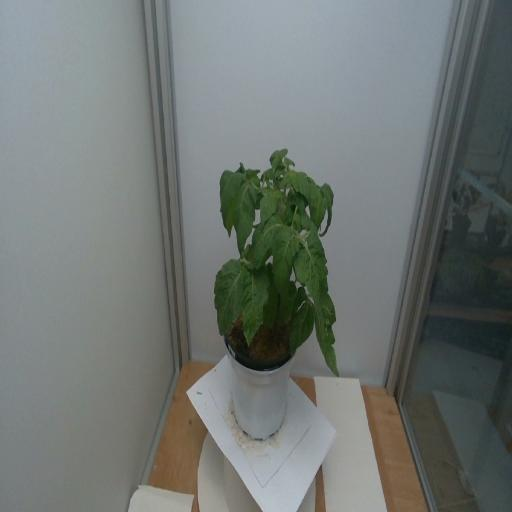Tomato-Leaves-Cupboard-: (294, 233, 333, 328), (215, 245, 244, 352), (310, 293, 344, 381), (215, 161, 248, 236), (270, 220, 301, 298), (286, 153, 318, 220), (249, 206, 279, 273), (240, 258, 261, 346), (236, 173, 258, 250), (253, 173, 279, 232), (310, 174, 335, 232), (267, 136, 288, 186)
